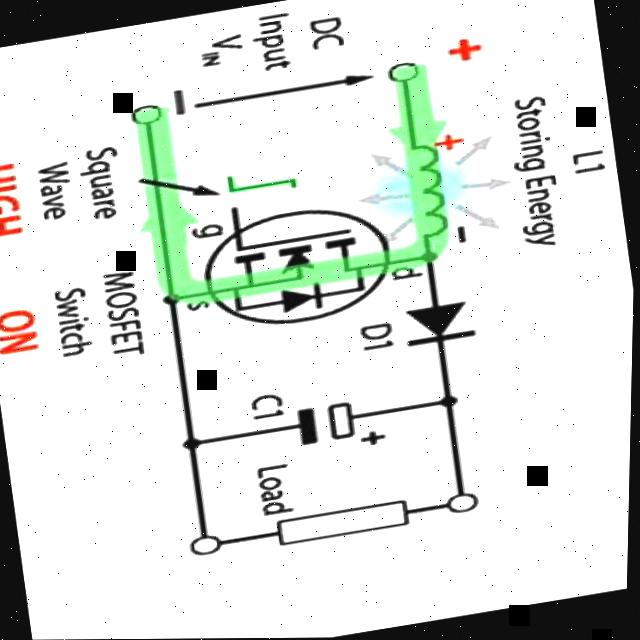capacitor: (275, 380, 385, 455)
diode: (387, 287, 501, 357)
inductor: (384, 129, 475, 256)
mosfet: (191, 194, 414, 343)
node: (430, 386, 475, 412), (178, 430, 216, 458), (158, 285, 190, 307), (420, 248, 445, 265)
resistor: (268, 488, 426, 558)
